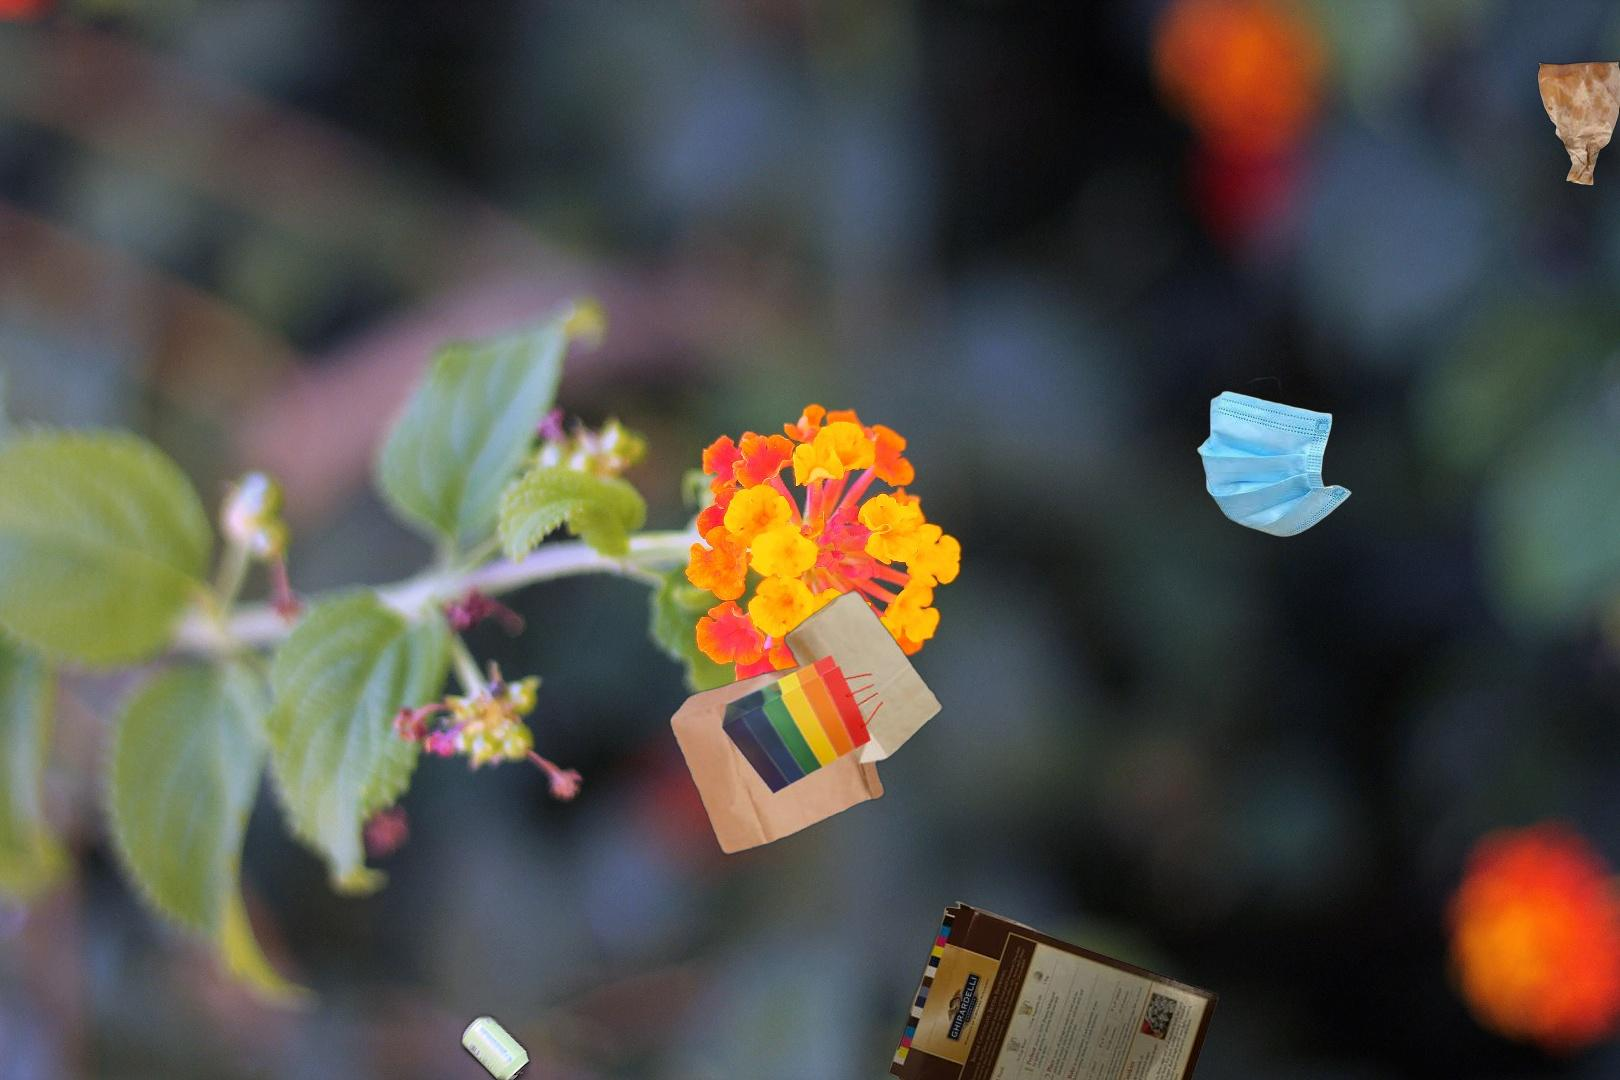clothes: (912, 987, 1249, 1080)
metal-cans: (435, 1010, 609, 1080)
paper: (884, 898, 1223, 1080)
paper-bag: (667, 586, 947, 864), (1534, 59, 1620, 189)
trash: (1195, 375, 1355, 540)
